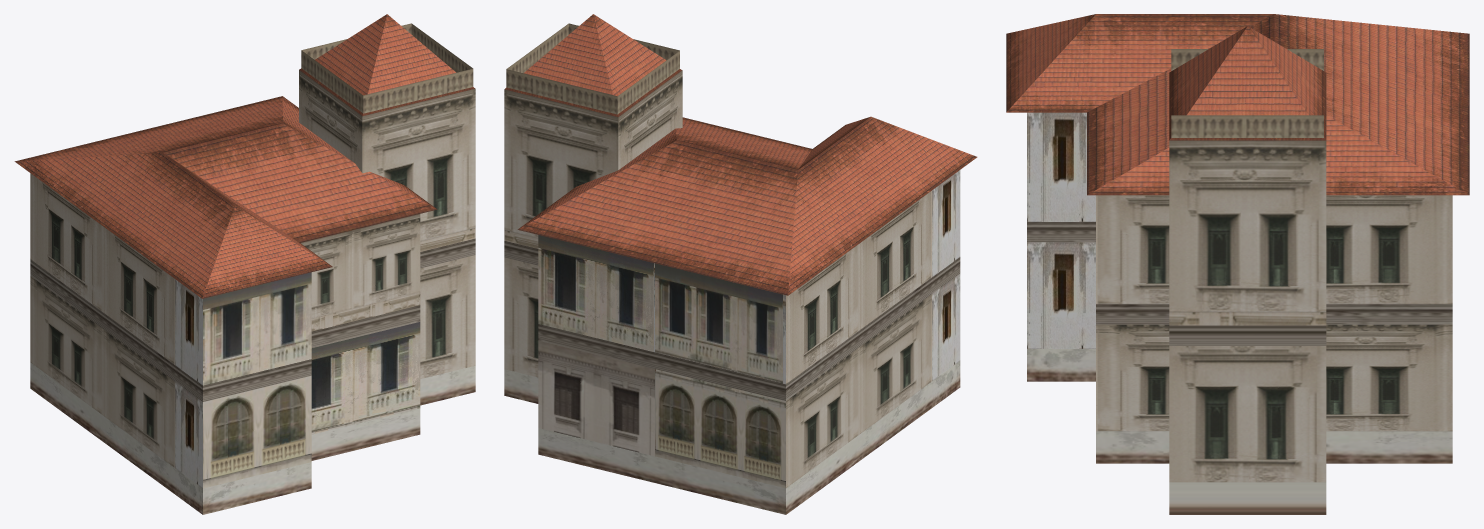
File: SM_Building_ColonialHouse_03.fbx
The picture shows the model from 3 angles, left to right: view 1: azimuth 30°, elevation 25°; view 2: azimuth 150°, elevation 25°; view 3: azimuth 270°, elevation 25°; orthographic projection. The views are drawn at different scales.
Parts seen in each view (by area): view 1: SM_Building_ColonialHouse_03; view 2: SM_Building_ColonialHouse_03; view 3: SM_Building_ColonialHouse_03.
Part boxes in pixels (x1=…): SM_Building_ColonialHouse_03: x1=14, y1=14, x2=475, y2=514; SM_Building_ColonialHouse_03: x1=504, y1=14, x2=977, y2=514; SM_Building_ColonialHouse_03: x1=1006, y1=14, x2=1469, y2=514.
Bounding box in the file's own units: 14.67 × 15.23 × 14.06.
